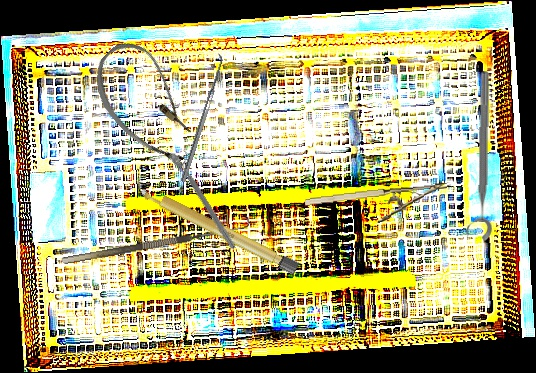Cannula: (77, 31, 219, 176)
Fixation Ring: (168, 146, 245, 252), (463, 70, 495, 242)
Hook Surgical: (59, 214, 252, 265)
Needle Holder: (304, 182, 454, 229)
Scalpel Handle: (136, 182, 300, 276)
Spatula Surgical: (175, 52, 227, 183)
